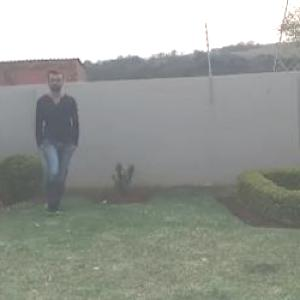follow: (35, 72, 92, 202)
